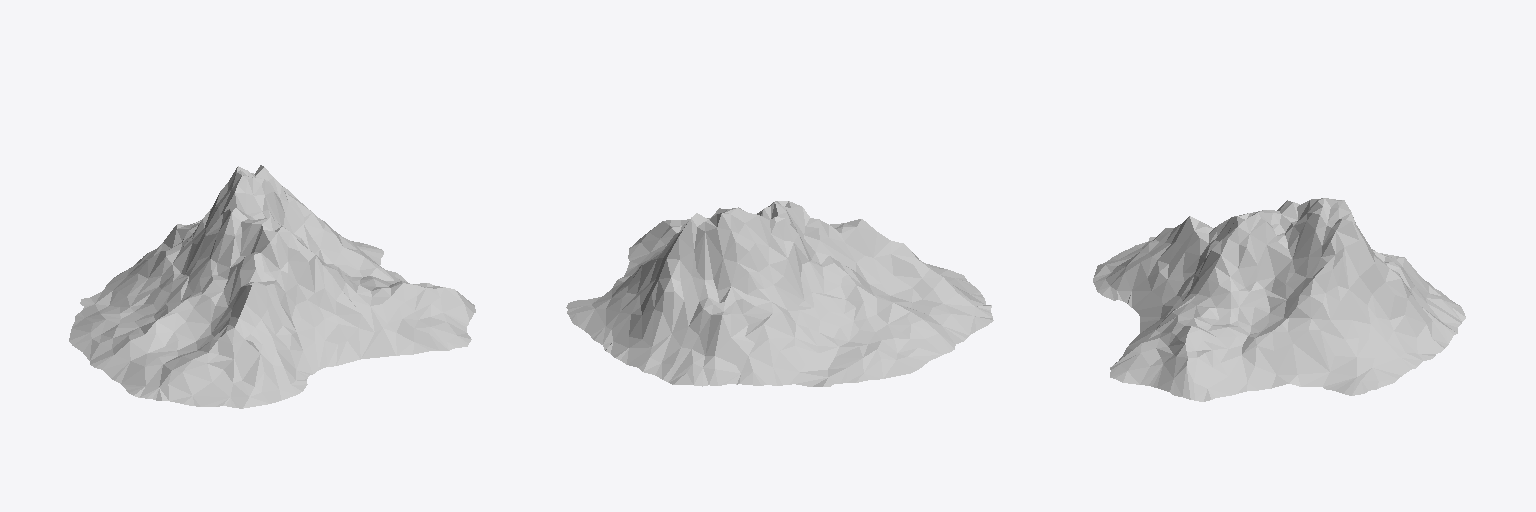
The model's file is Mountain.obj.
The picture shows the model from 3 angles: view 1: azimuth 30°, elevation 25°; view 2: azimuth 150°, elevation 25°; view 3: azimuth 270°, elevation 25°; orthographic projection.
Visible parts, largest first — view 1: Mountains; view 2: Mountains; view 3: Mountains.
Boxes of the visible parts, <box> form: Mountains: <box>69,165,475,408</box>; Mountains: <box>566,201,993,386</box>; Mountains: <box>1093,198,1465,401</box>.
Bounding box in the file's own units: 1148 × 395 × 1064.